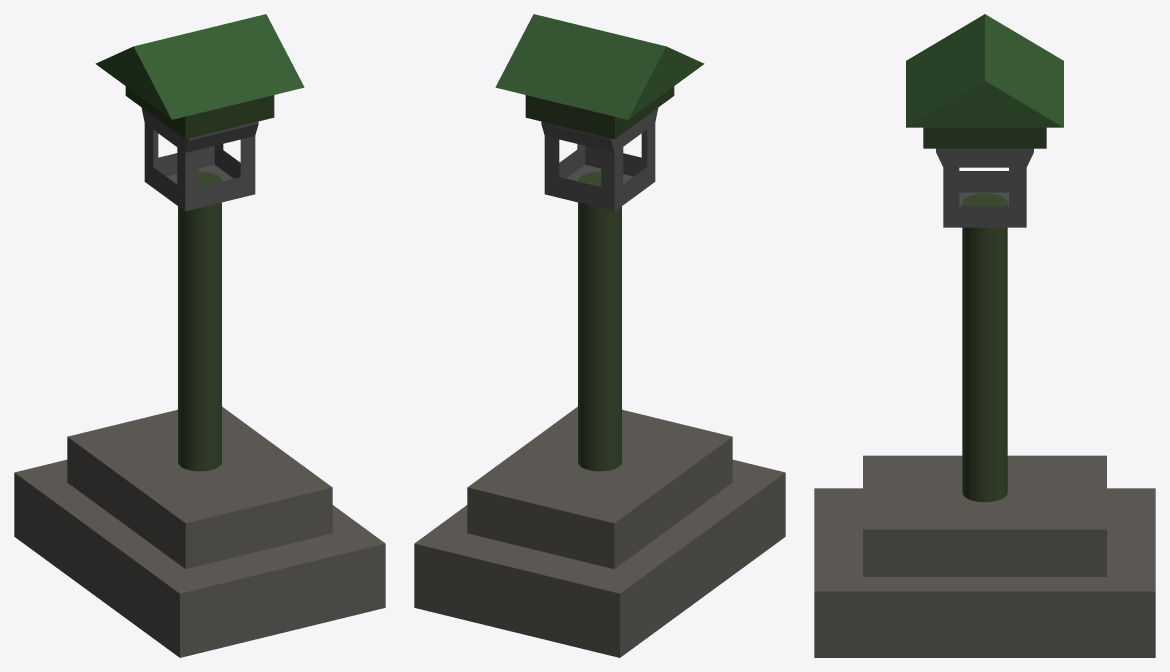
The model's file is Toro.fbx.
3 views of the same model, side by side, from view 1: azimuth 30°, elevation 25°; view 2: azimuth 150°, elevation 25°; view 3: azimuth 270°, elevation 25° (orthographic). The views are drawn at different scales.
Visible parts, largest first — view 1: Cube, Cube.001, Plane.002, Cylinder, Cube.002, Plane.001; view 2: Cube, Cube.001, Plane.002, Cylinder, Cube.002, Plane.001; view 3: Cube, Cube.001, Plane.002, Cylinder, Cube.002, Plane.001.
Part boxes in pixels (x1,y1,x2,y2): Cube: (14,459,385,657); Cube.001: (67,406,332,568); Plane.002: (95,14,304,119); Cylinder: (178,171,221,471); Cube.002: (141,108,258,211); Plane.001: (125,86,274,139); Cube: (414,459,785,657); Cube.001: (467,406,732,568); Plane.002: (495,14,704,119); Cylinder: (578,171,621,471); Cube.002: (541,108,658,211); Plane.001: (525,86,674,139); Cube: (814,488,1155,657); Cube.001: (863,455,1106,576); Plane.002: (906,14,1063,127); Cylinder: (962,193,1007,502); Cube.002: (936,148,1033,227); Plane.001: (923,127,1046,148).
Size of the model in its own units: 1.01 by 2.56 by 1.42.
